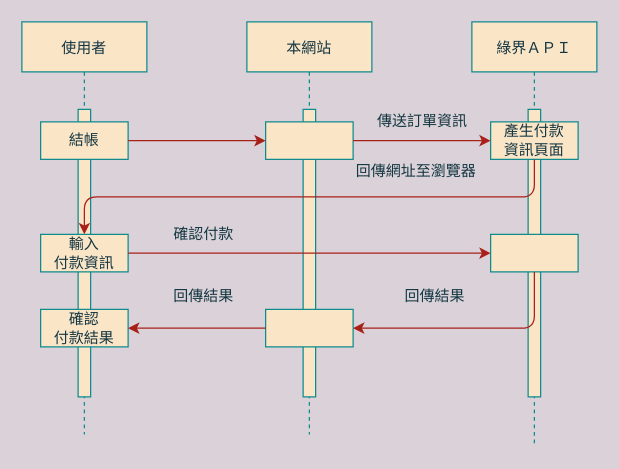
The diagram is 619 pixels wide and 469 high, and some of its shapes have lost their labels. Each missing label, with the centre of its shape:
"接收使用者付款行為" belongs at pixel 533 252.
"根據結果修改資料庫" belongs at pixel 308 327.
"資料庫建立訂單資訊" belongs at pixel 308 140.
